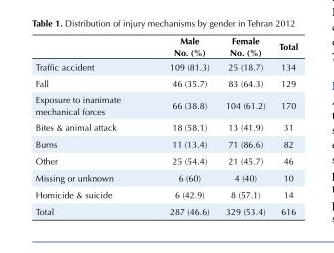table: (34, 34, 297, 216)
table column: (34, 34, 144, 216), (144, 34, 216, 216), (216, 34, 271, 216), (271, 34, 297, 216)
table column header: (34, 34, 297, 59)
table row: (34, 91, 297, 119), (34, 34, 297, 59), (34, 74, 297, 91), (34, 135, 297, 152), (34, 152, 297, 169), (34, 185, 297, 202), (34, 119, 297, 135), (34, 169, 297, 185), (34, 59, 297, 74), (34, 202, 297, 216)
